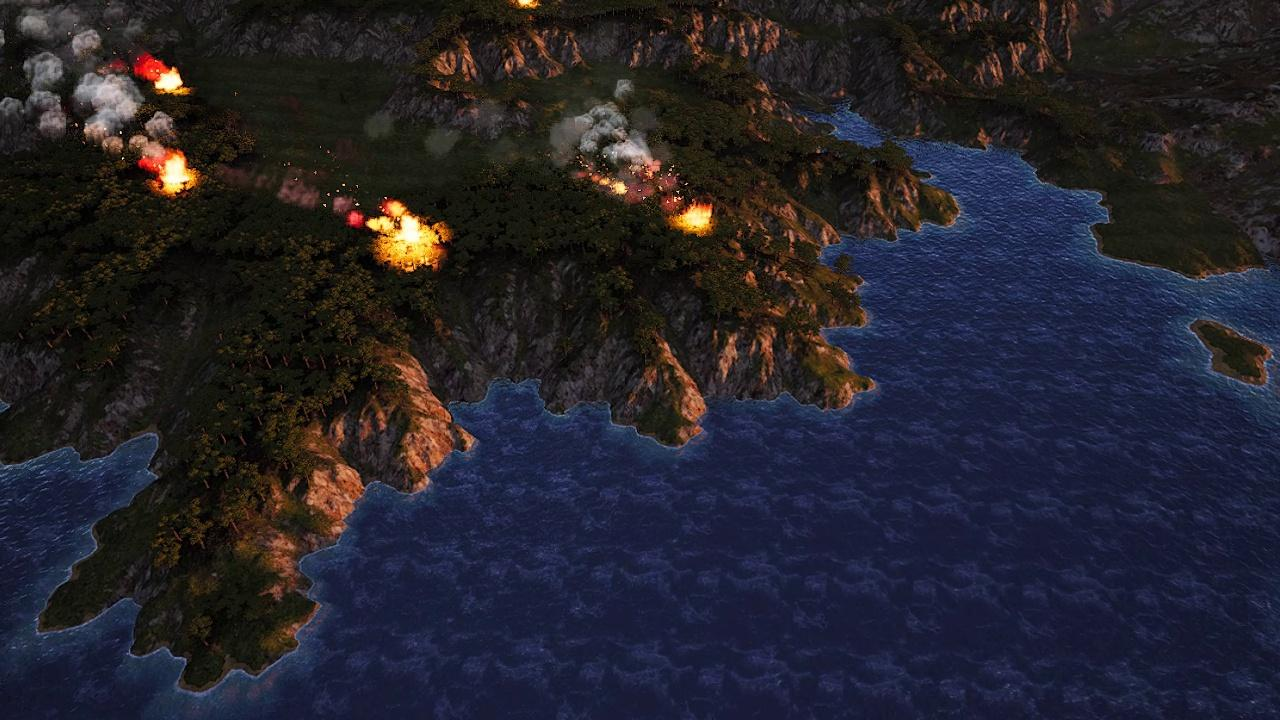fire: (361, 196, 443, 261), (577, 164, 672, 198), (137, 157, 200, 192), (137, 57, 192, 95), (671, 205, 717, 237)
smoke: (0, 0, 193, 160), (553, 78, 673, 168)
